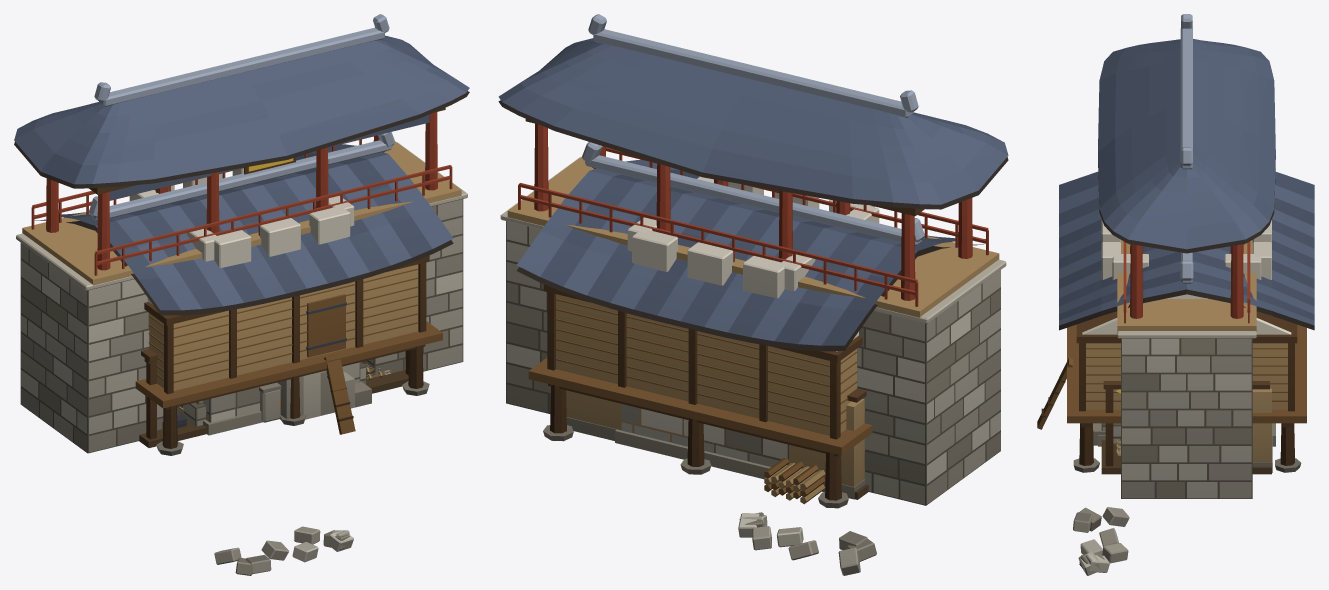
Rendered from fort.glb.
3 renders of one model, left to right at view 1: azimuth 30°, elevation 25°; view 2: azimuth 150°, elevation 25°; view 3: azimuth 270°, elevation 25°, orthographic. The views are drawn at different scales.
Visible parts, largest first — view 1: gate_s, bugyeong, chi, smithy, beacon, rubble; view 2: gate_s, bugyeong, chi, smithy, rubble; view 3: gate_s, bugyeong, smithy, chi, rubble.
Part boxes in pixels (bbox=[...]): gate_s: bbox=[14, 14, 469, 453]; bugyeong: bbox=[34, 132, 453, 455]; chi: bbox=[129, 168, 360, 435]; smithy: bbox=[139, 348, 409, 447]; beacon: bbox=[180, 353, 371, 426]; rubble: bbox=[214, 526, 353, 575]; gate_s: bbox=[498, 14, 1008, 505]; bugyeong: bbox=[516, 142, 985, 508]; chi: bbox=[615, 176, 879, 479]; smithy: bbox=[566, 388, 868, 504]; rubble: bbox=[738, 512, 876, 575]; gate_s: bbox=[1098, 14, 1275, 498]; bugyeong: bbox=[1037, 171, 1314, 472]; smithy: bbox=[1101, 381, 1272, 474]; chi: bbox=[1098, 219, 1275, 446]; rubble: bbox=[1073, 507, 1129, 575].
Size of the model in its own units: 11.8 by 13.47 by 7.16.
